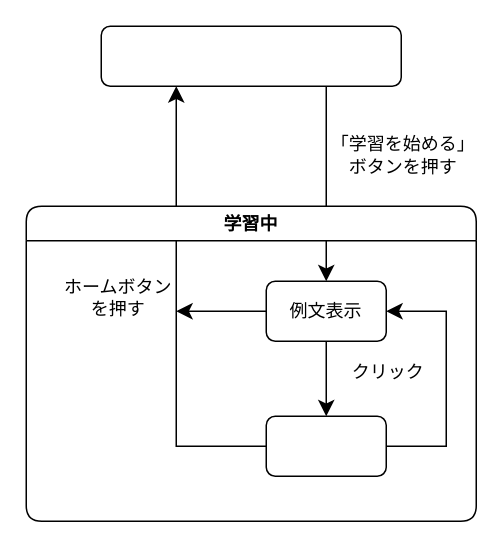
Image size: 503x548. Some labels were removed from this diagram. The shapes that lost their labels are listed below. From the top down, each one's centre as x and y in pixels, then its label:
At (250,55): "ホーム画面".
At (325,445): "意味表示".
